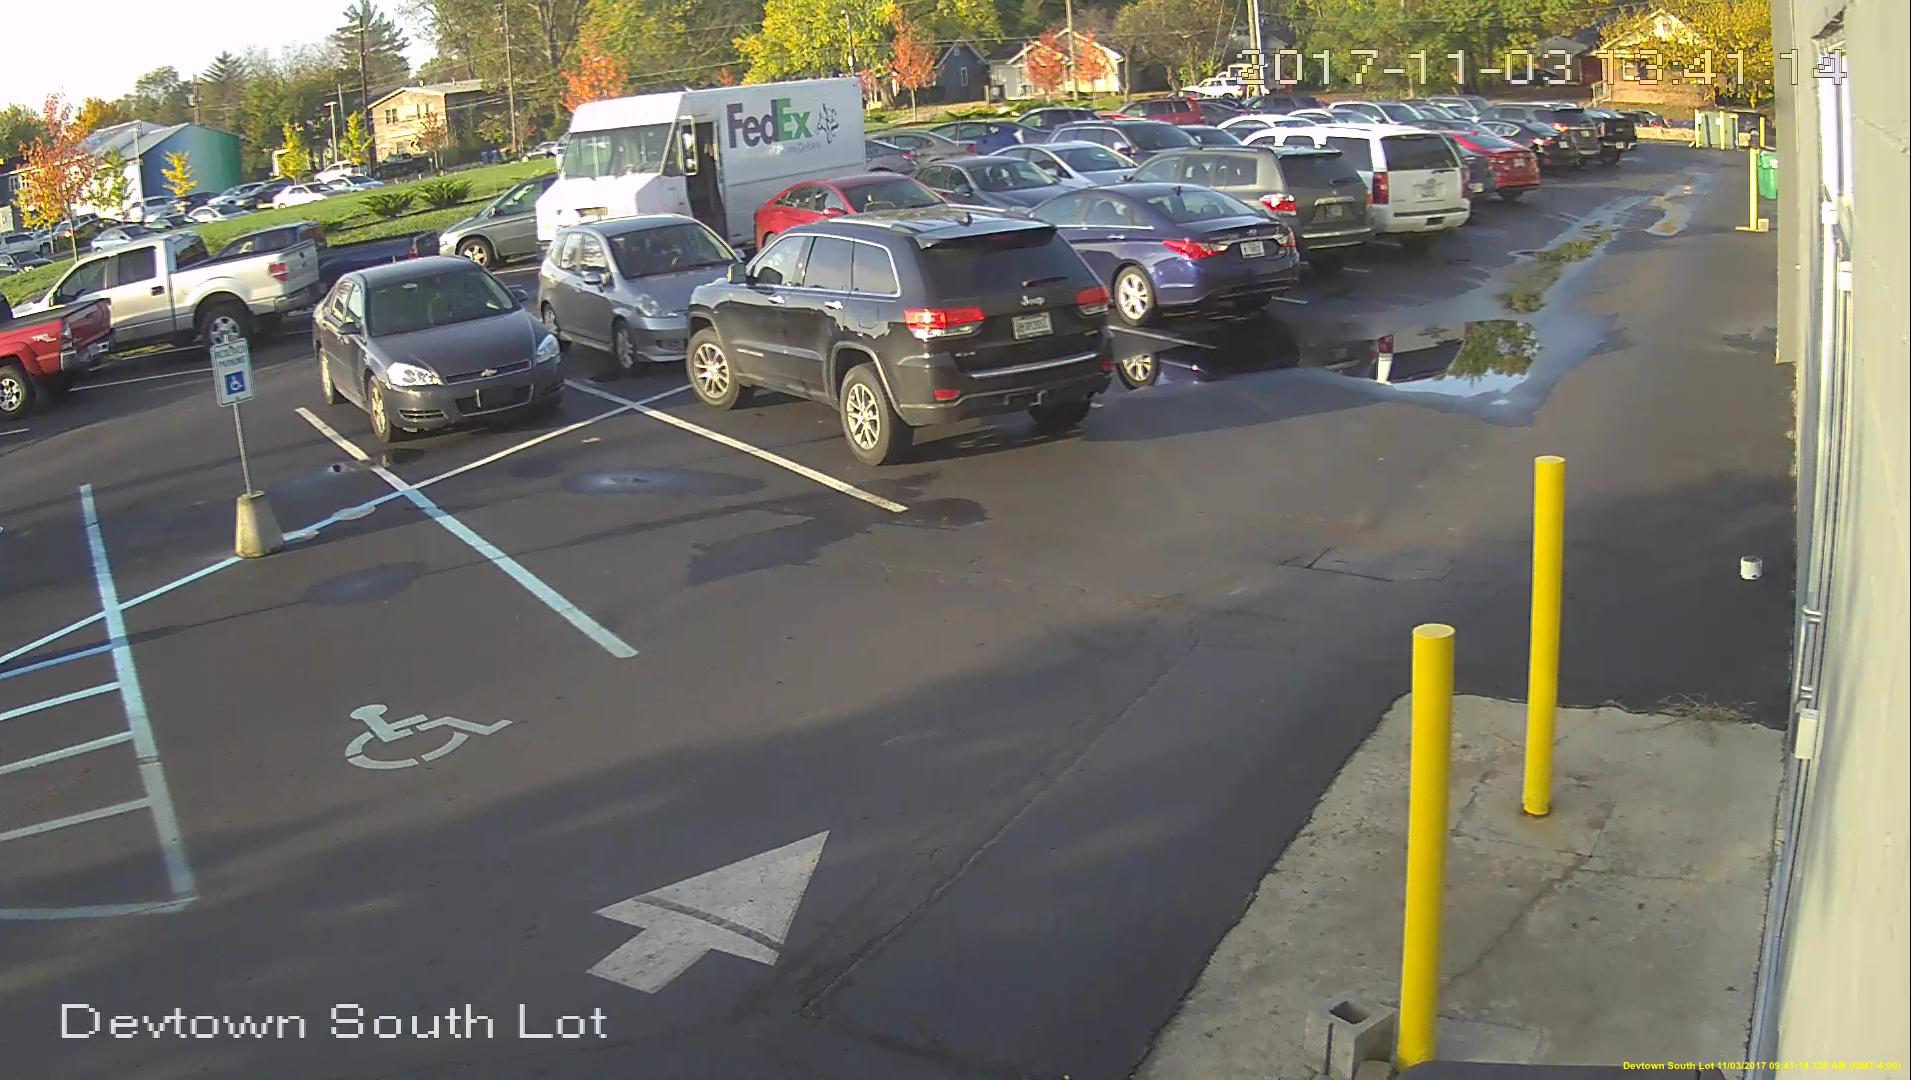fedex_truck: (532, 70, 873, 260)
